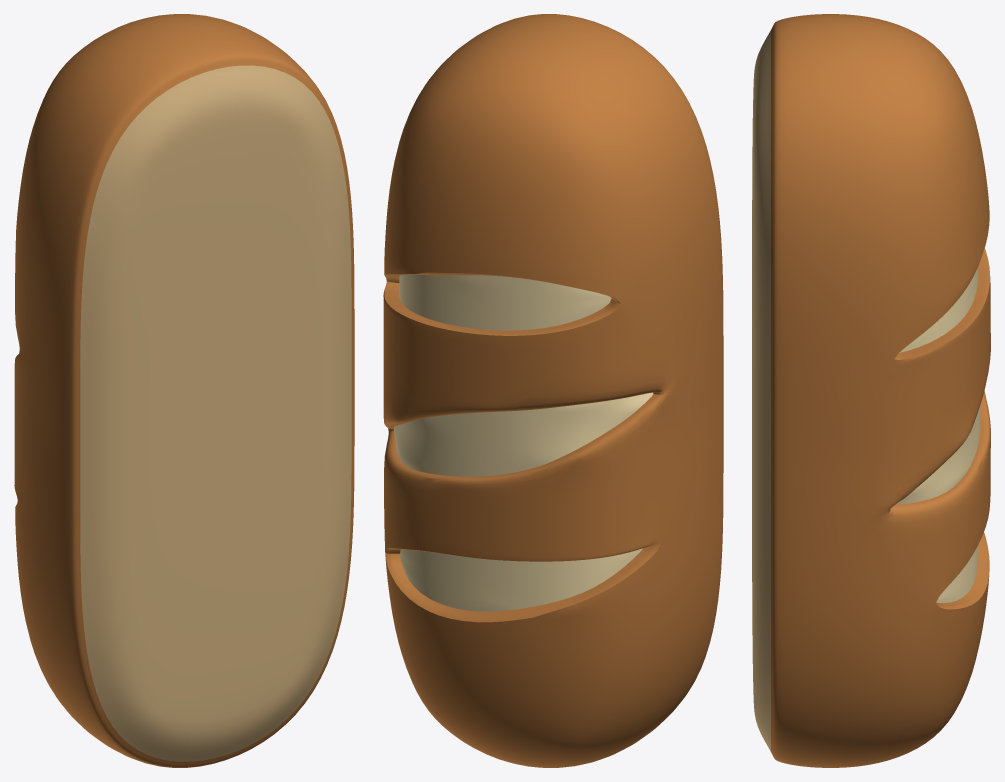
Rendered from baguette_small.glb.
3 views of the same model, side by side, from view 1: azimuth 30°, elevation 25°; view 2: azimuth 150°, elevation 25°; view 3: azimuth 270°, elevation 25° (orthographic).
Parts seen in each view (by area): view 1: baguette; view 2: baguette; view 3: baguette.
Boxes of the visible parts, x1=… form: baguette: x1=14, y1=14, x2=354, y2=767; baguette: x1=383, y1=14, x2=723, y2=767; baguette: x1=752, y1=14, x2=990, y2=767.
Bounding box in the file's own units: 1.33 × 3.14 × 0.9413.
